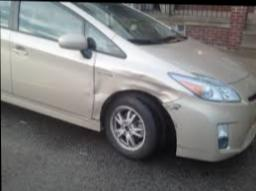Bumper: (162, 93, 215, 160), (236, 108, 256, 152)
Fender: (91, 53, 193, 119)
